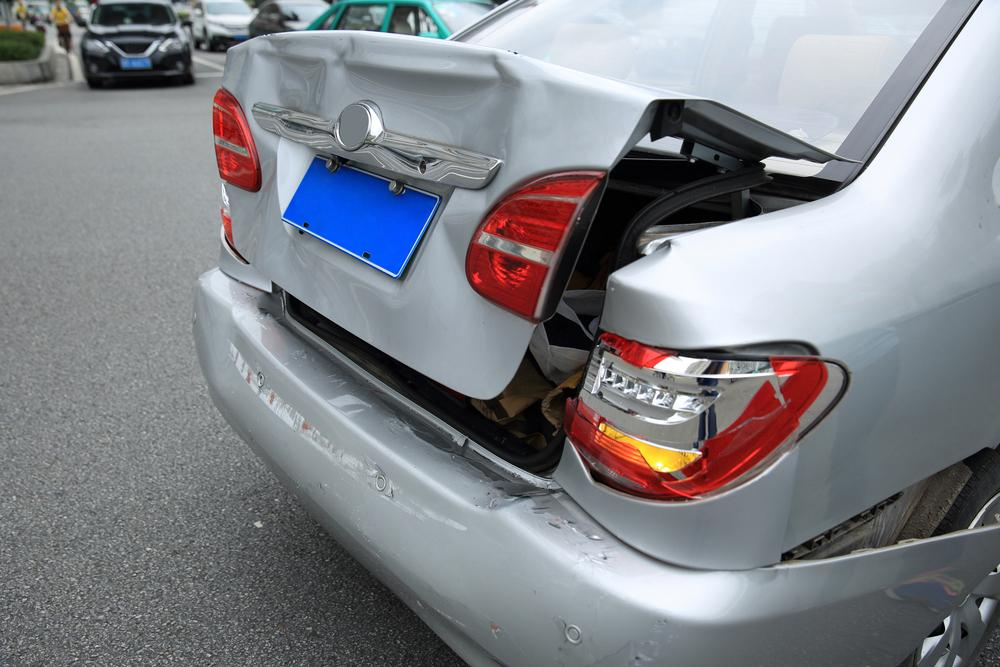dent: (240, 30, 521, 160)
lamp broken: (566, 327, 822, 501)
scratch: (227, 338, 473, 537)
